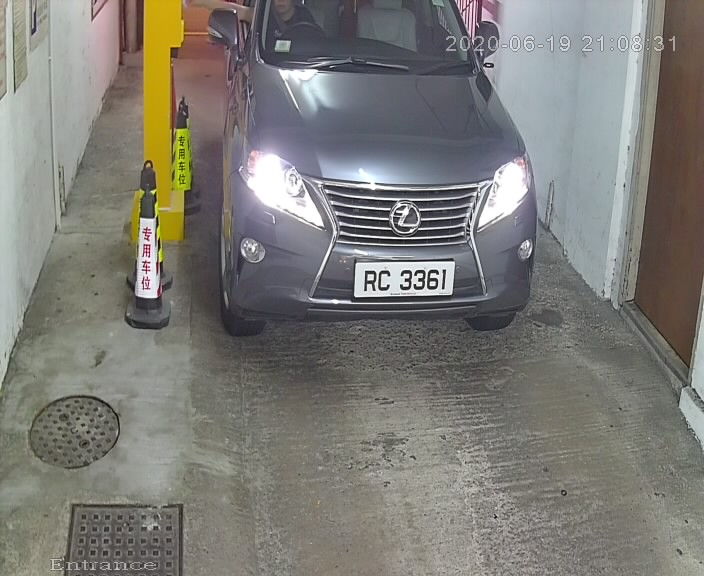privatecar: (208, 3, 538, 337)
